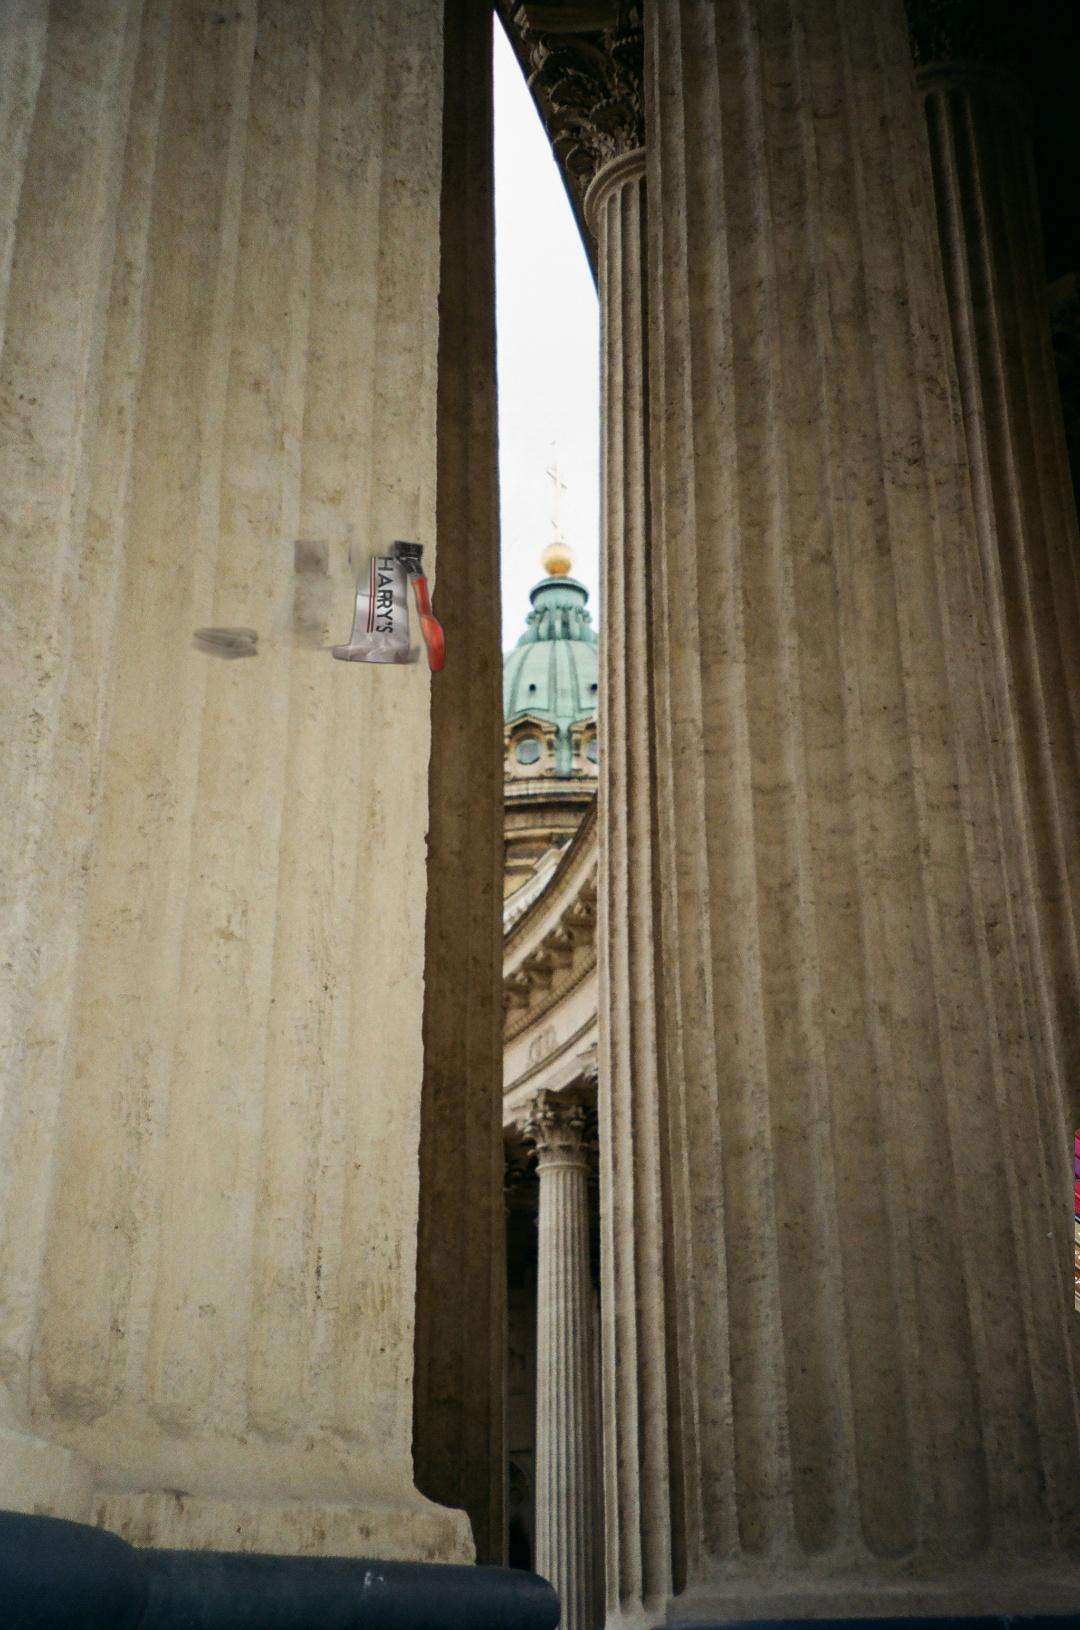paper: (152, 411, 648, 685)
penholder: (1075, 1079, 1080, 1370)
